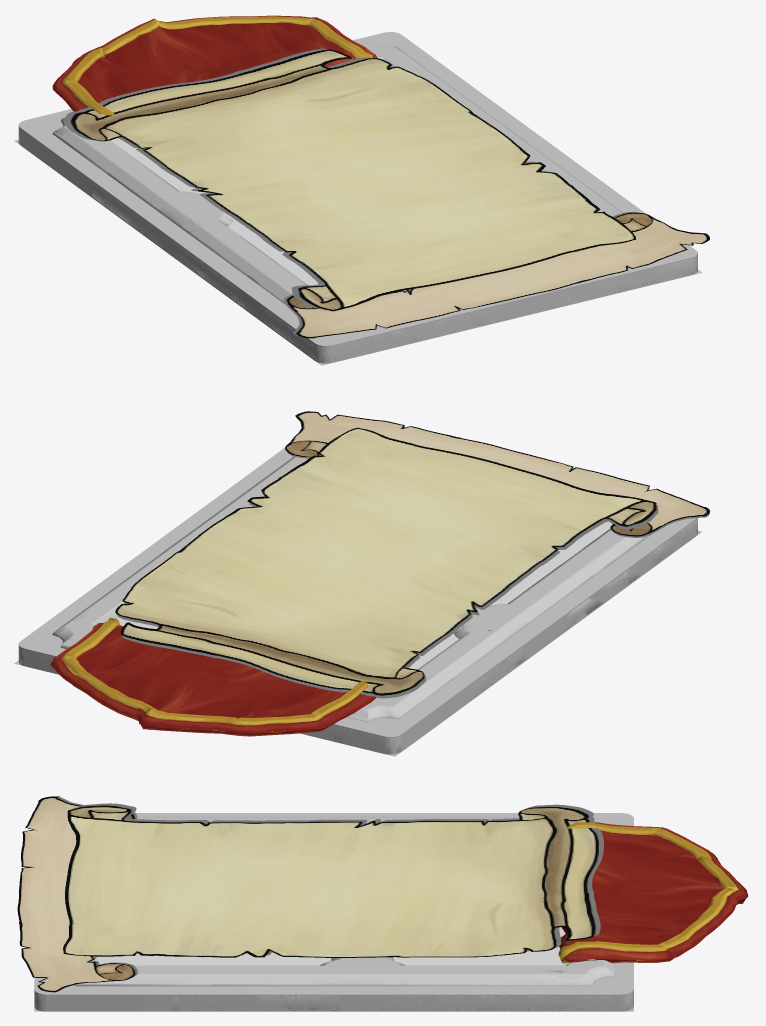
The model's file is ALL 3D MODELS.fbx.
The picture shows the model from 3 angles, top to bottom: view 1: azimuth 30°, elevation 25°; view 2: azimuth 150°, elevation 25°; view 3: azimuth 270°, elevation 25°; orthographic projection. The views are drawn at different scales.
Parts seen in each view (by area): view 1: Scroll_Large, Card_3D, Flag_3D_Large, Scroll_Small, Card_3D_Metal_SubD, Card_Cube_Rounded, Card_3D_Stone_SubD, Card_3D_Stone, Card_3D_SubD, Card_3D_Metal, Illustration, Text; view 2: Scroll_Large, Flag_3D_Large, Card_3D, Card_3D_Metal_SubD, Scroll_Small, Card_Cube_Rounded, Card_3D_Stone, Card_3D_Stone_SubD, Card_3D_Metal, Card_3D_SubD, Illustration, Text; view 3: Scroll_Large, Flag_3D_Large, Card_3D_Metal_SubD, Card_3D, Scroll_Small, Card_Cube_Rounded, Card_3D_Stone, Card_3D_Stone_SubD, Illustration, Card_3D_Metal, Text, Card_3D_SubD.
Part boxes in pixels (x1,y1,x2,y2): Scroll_Large: [64, 48, 636, 311]; Card_3D: [18, 32, 697, 362]; Flag_3D_Large: [53, 15, 377, 115]; Scroll_Small: [283, 212, 709, 338]; Card_3D_Metal_SubD: [25, 34, 696, 360]; Card_Cube_Rounded: [18, 32, 697, 363]; Card_3D_Stone_SubD: [18, 44, 697, 361]; Card_3D_Stone: [53, 44, 623, 301]; Card_3D_SubD: [27, 35, 688, 358]; Card_3D_Metal: [83, 44, 614, 290]; Illustration: [228, 218, 406, 290]; Text: [110, 138, 205, 194]; Scroll_Large: [115, 427, 658, 698]; Flag_3D_Large: [50, 617, 376, 736]; Card_3D: [18, 449, 696, 753]; Card_3D_Metal_SubD: [23, 457, 697, 751]; Scroll_Small: [285, 411, 710, 537]; Card_Cube_Rounded: [18, 448, 697, 754]; Card_3D_Stone: [56, 456, 647, 720]; Card_3D_Stone_SubD: [18, 458, 697, 753]; Card_3D_Metal: [68, 457, 622, 708]; Card_3D_SubD: [25, 473, 580, 748]; Illustration: [489, 521, 612, 606]; Text: [117, 617, 458, 669]; Scroll_Large: [63, 803, 603, 957]; Flag_3D_Large: [558, 822, 746, 963]; Card_3D_Metal_SubD: [35, 813, 632, 1010]; Card_3D: [34, 813, 633, 1010]; Scroll_Small: [17, 796, 137, 992]; Card_Cube_Rounded: [34, 813, 633, 1011]; Card_3D_Stone: [76, 817, 614, 986]; Card_3D_Stone_SubD: [34, 817, 633, 1010]; Illustration: [95, 952, 331, 965]; Card_3D_Metal: [136, 818, 603, 973]; Text: [394, 927, 569, 965]; Card_3D_SubD: [187, 813, 632, 993].
Size of the model in its own units: 7.59 by 0.739 by 10.83.
